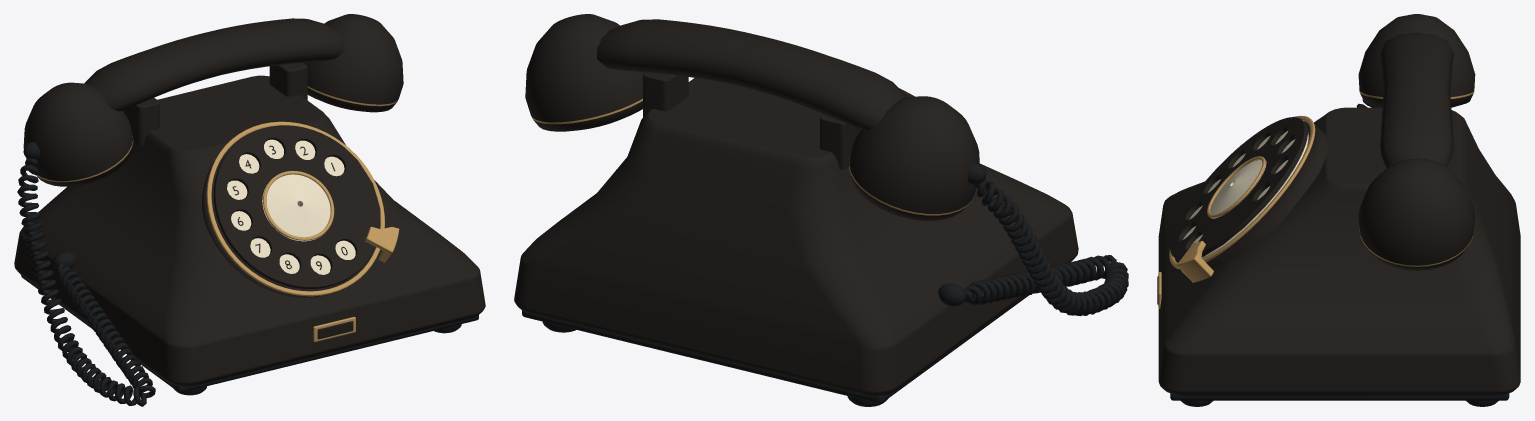
Rendered from telephone.fbx.
3 renders of one model, left to right at view 1: azimuth 30°, elevation 25°; view 2: azimuth 150°, elevation 25°; view 3: azimuth 270°, elevation 25°, orthographic. The views are drawn at different scales.
Parts seen in each view (by area): view 1: TEL_Base_Static, TEL_Handset, TEL_DialWheel, TEL_Cable; view 2: TEL_Base_Static, TEL_Handset, TEL_Cable; view 3: TEL_Base_Static, TEL_Handset, TEL_DialWheel.
Part boxes in pixels (<box>): TEL_Base_Static: <box>14,62,485,395</box>; TEL_Handset: <box>23,14,403,186</box>; TEL_DialWheel: <box>213,125,380,288</box>; TEL_Cable: <box>17,158,155,406</box>; TEL_Base_Static: <box>514,72,1078,406</box>; TEL_Handset: <box>525,14,986,220</box>; TEL_Cable: <box>964,179,1128,316</box>; TEL_Base_Static: <box>1157,107,1520,406</box>; TEL_Handset: <box>1358,14,1475,270</box>; TEL_DialWheel: <box>1170,117,1307,260</box>.
Bounding box in the file's own units: 0.2912 × 0.1721 × 0.2166.
